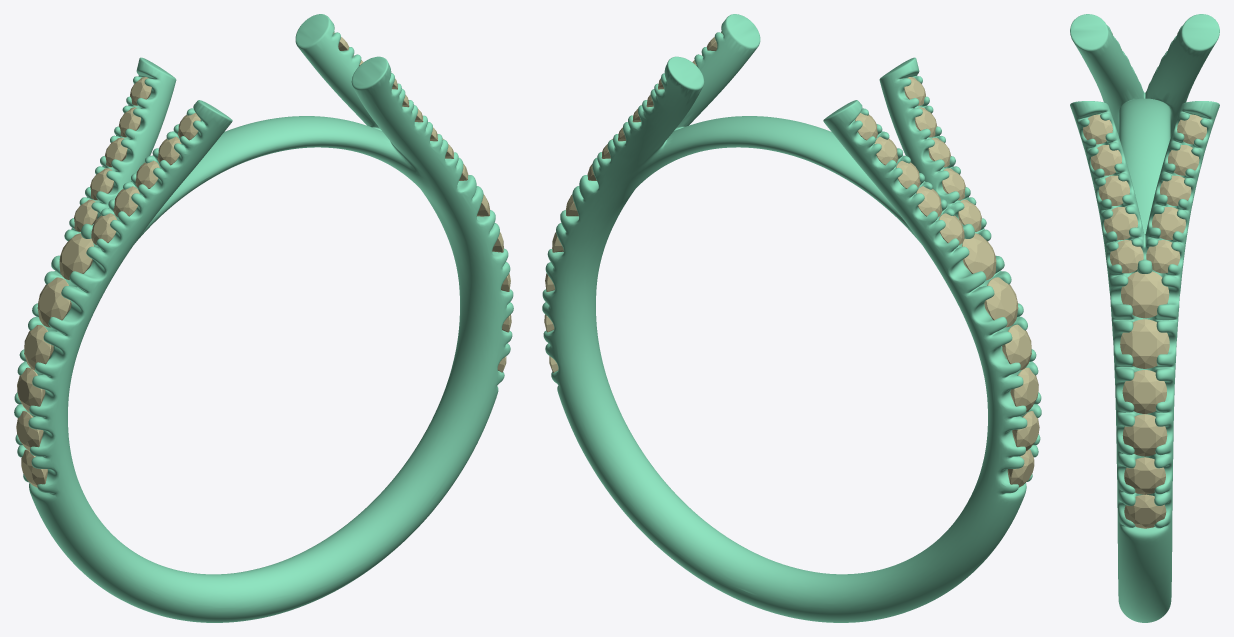
3 views of the same model, side by side, from view 1: azimuth 30°, elevation 25°; view 2: azimuth 150°, elevation 25°; view 3: azimuth 270°, elevation 25° (orthographic). The views are drawn at different scales.
Parts seen in each view (by area): view 1: Metal02, Diamond_Gem.007, Diamond_Gem.002, Diamond_Gem.005, Diamond_Gem.006; view 2: Metal02, Diamond_Gem.007, Diamond_Gem.002, Diamond_Gem.005, Diamond_Gem.006; view 3: Metal02, Diamond_Gem.024, Diamond_Gem.029, Diamond_Gem.026, Diamond_Gem.025, Diamond_Gem.028, Diamond_Gem.027, Diamond_Gem.023, Diamond_Gem.021, Diamond_Gem.022, Diamond_Gem.020, Diamond_Gem.017 (+5 smaller).
Boxes of the visible parts, x1,y1,x2,y2 form: Metal02: (14,14,513,622); Diamond_Gem.007: (37,277,71,327); Diamond_Gem.002: (59,233,93,280); Diamond_Gem.005: (24,325,53,370); Diamond_Gem.006: (17,367,45,412); Metal02: (542,14,1041,622); Diamond_Gem.007: (984,277,1018,327); Diamond_Gem.002: (962,233,996,280); Diamond_Gem.005: (1002,324,1031,370); Diamond_Gem.006: (1010,367,1038,412); Metal02: (1070,14,1219,622); Diamond_Gem.024: (1120,319,1169,368); Diamond_Gem.029: (1121,271,1169,318); Diamond_Gem.026: (1122,370,1166,413); Diamond_Gem.025: (1122,414,1167,456); Diamond_Gem.028: (1124,457,1165,494); Diamond_Gem.027: (1124,494,1166,528); Diamond_Gem.023: (1146,240,1180,273); Diamond_Gem.021: (1110,240,1143,273); Diamond_Gem.022: (1152,207,1185,240); Diamond_Gem.020: (1104,207,1137,240); Diamond_Gem.017: (1160,175,1191,205).
Size of the model in its own units: 20.85 by 22.81 by 5.74.
